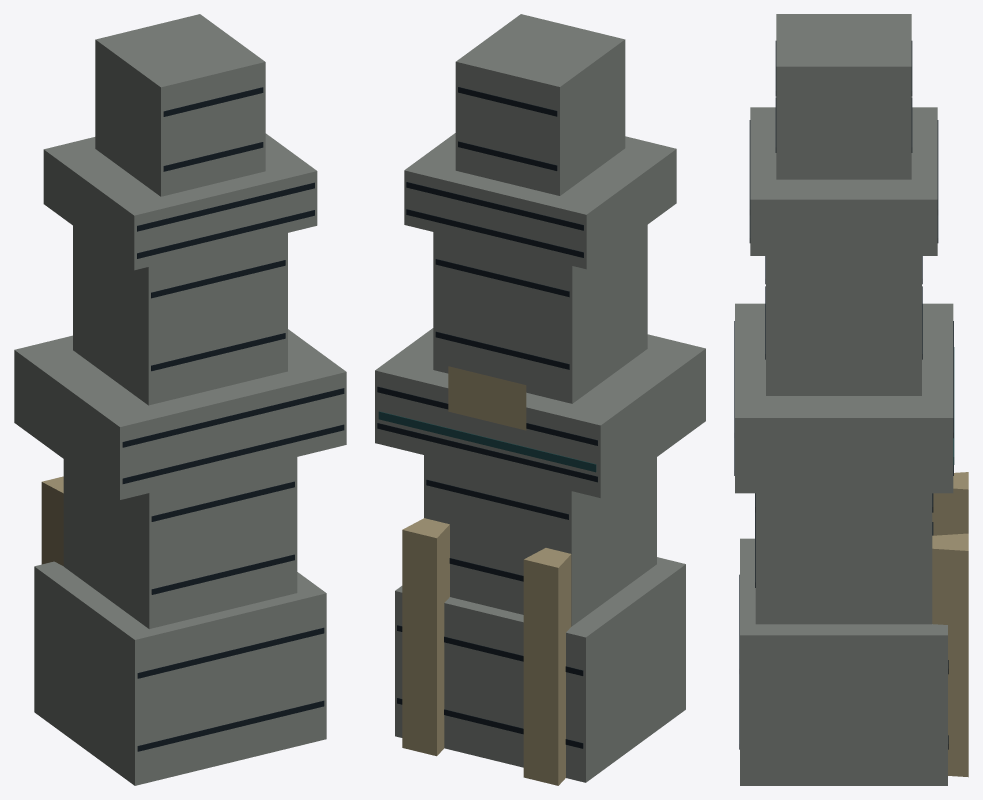
File: near_megablock.obj
The picture shows the model from 3 angles, left to right: view 1: azimuth 30°, elevation 25°; view 2: azimuth 150°, elevation 25°; view 3: azimuth 270°, elevation 25°; orthographic projection. The views are drawn at different scales.
Visible parts, largest first — view 1: megablock_mass, rear_window_band, buttress; view 2: megablock_mass, buttress, front_window_band, runtime_billboard, accent_band; view 3: megablock_mass, buttress, rear_window_band, front_window_band.
Part boxes in pixels (<box>): megablock_mass: <box>14,14,346,785</box>; rear_window_band: <box>122,87,344,751</box>; buttress: <box>41,476,63,565</box>; megablock_mass: <box>375,14,705,782</box>; buttress: <box>402,518,571,785</box>; front_window_band: <box>377,87,597,748</box>; runtime_billboard: <box>448,366,526,430</box>; accent_band: <box>378,411,596,472</box>; megablock_mass: <box>735,14,953,785</box>; buttress: <box>932,472,968,777</box>; rear_window_band: <box>734,41,776,749</box>; front_window_band: <box>911,41,953,749</box>.
Size of the model in its own units: 26 by 74 by 22.57.
